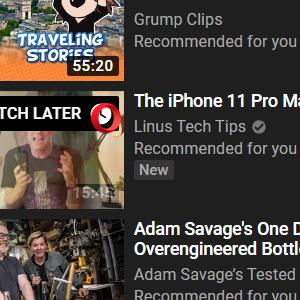opera: (91, 102, 121, 133)
